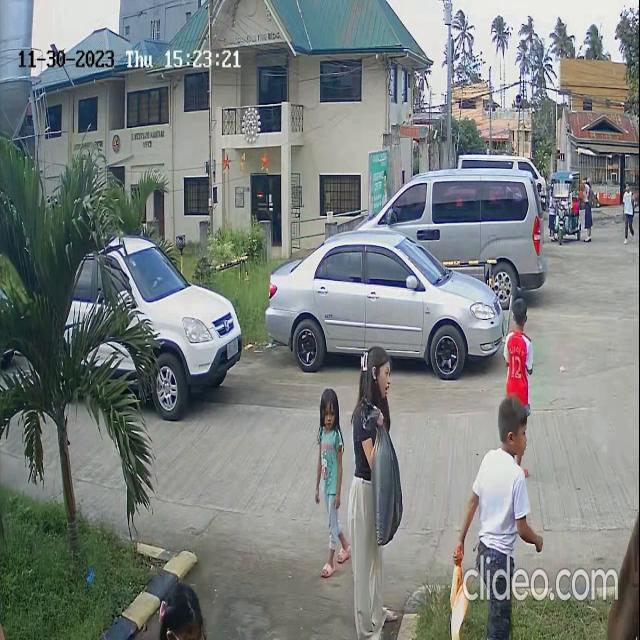garbage: (357, 402, 408, 539)
person: (490, 393, 538, 561), (315, 384, 347, 538), (356, 344, 396, 446), (504, 297, 532, 399)
